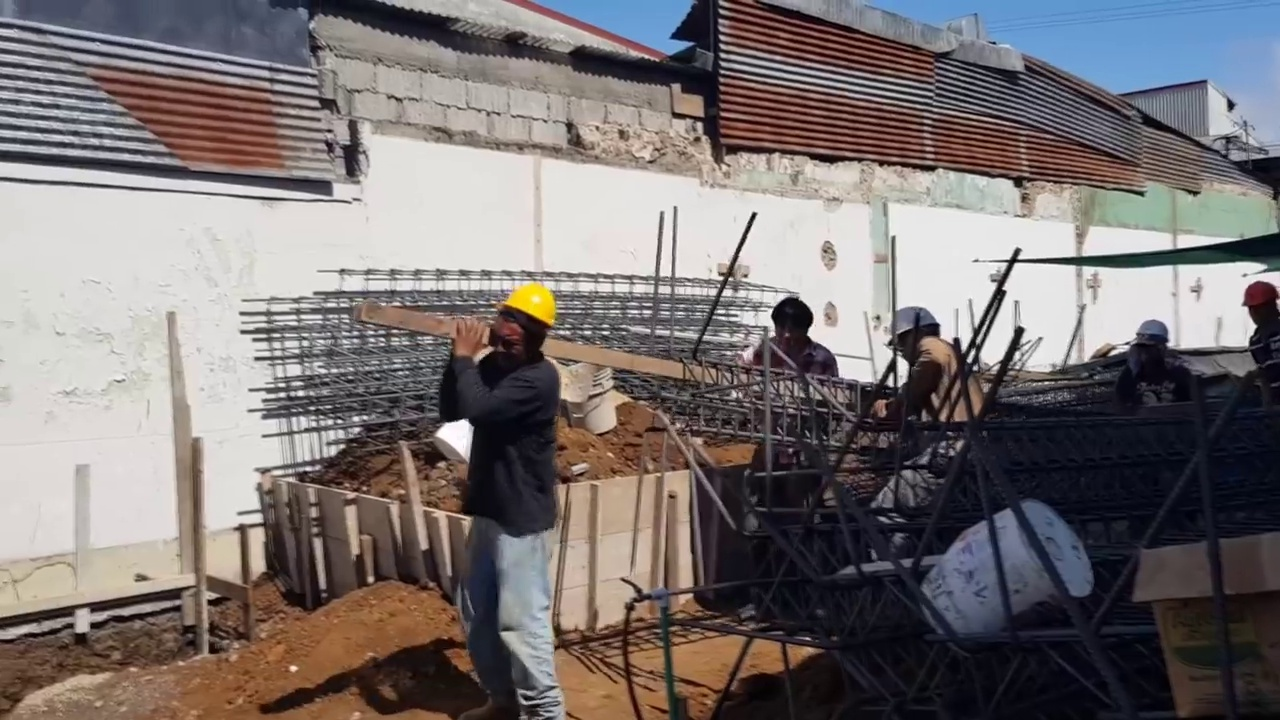helmet: (489, 284, 558, 330), (887, 306, 943, 350), (1238, 282, 1280, 313), (1134, 324, 1173, 343)
helmet-off: (767, 299, 816, 366)
helmet-on: (485, 283, 559, 367), (1238, 283, 1280, 415), (887, 304, 944, 364), (1240, 283, 1279, 330), (1134, 324, 1174, 358)
person: (441, 284, 570, 686), (742, 298, 844, 525), (877, 307, 958, 442), (1127, 325, 1190, 412)
